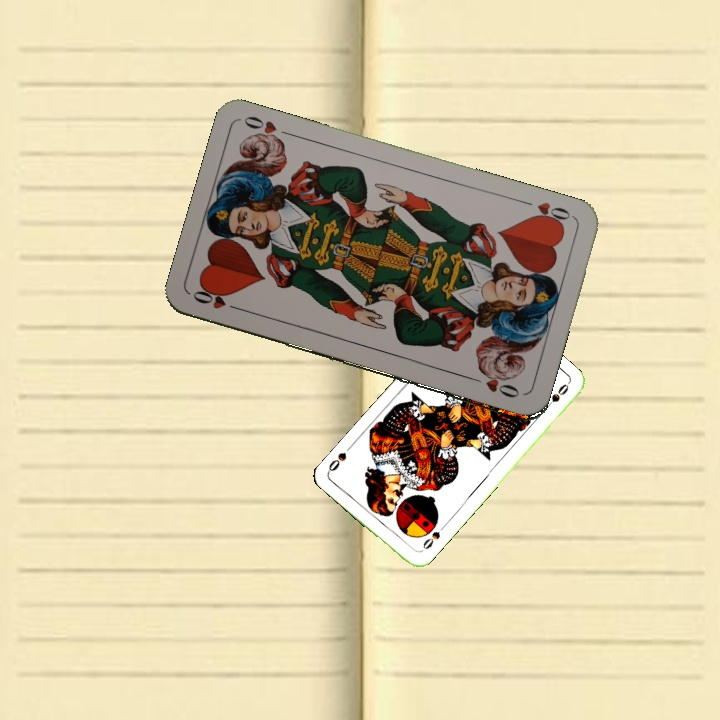HO: (518, 196, 576, 230), (188, 287, 246, 314)
SO: (418, 527, 443, 552)
